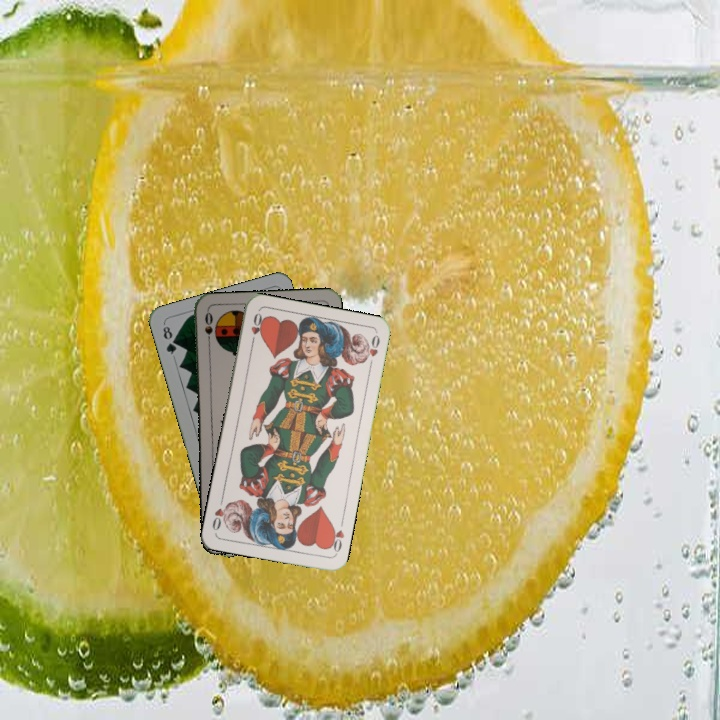G8: (159, 322, 179, 357)
HO: (325, 522, 347, 557), (247, 308, 265, 349)
SO: (200, 308, 215, 349)
